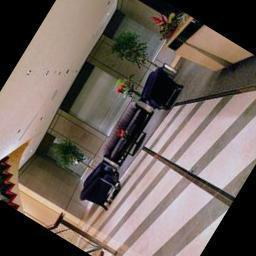Matera: (112, 27, 185, 82), (45, 135, 97, 181)
